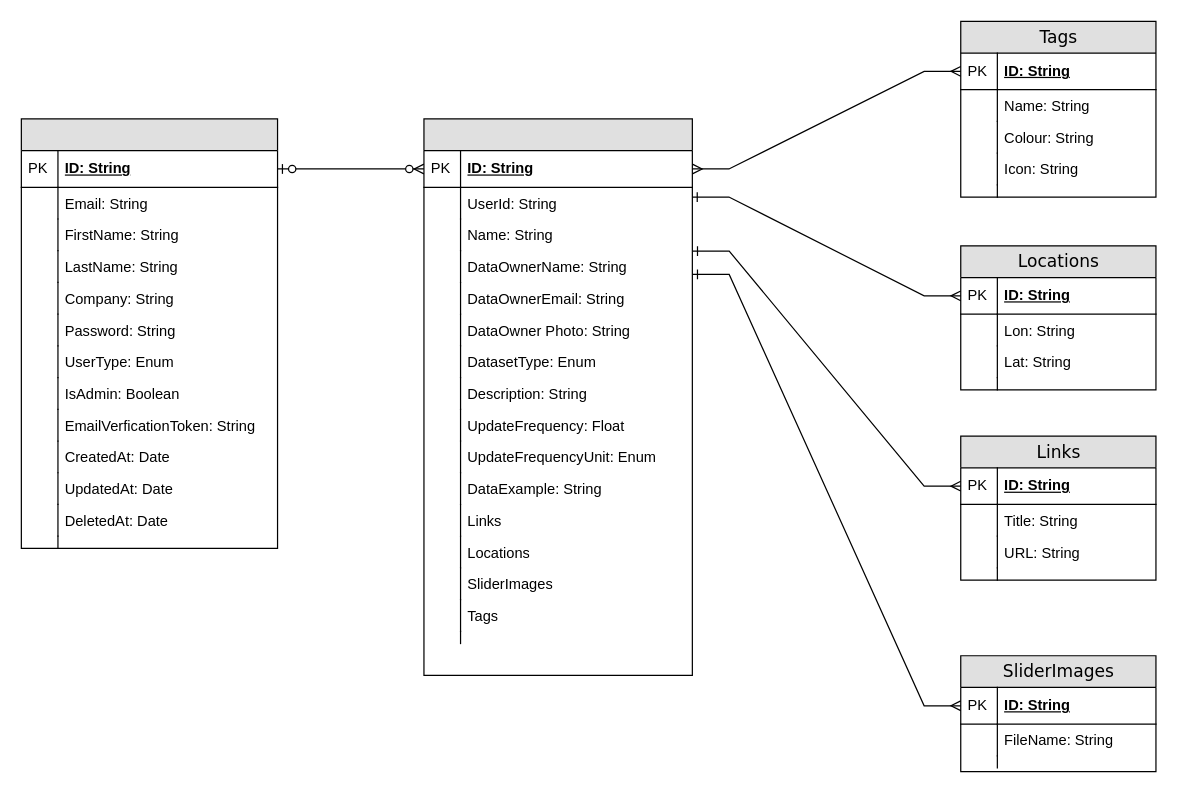
This 1177x793 diagram has some shape labels left out. Here are the shapes that lost their labels. From the top down, the box of each, then its label:
(20, 118, 278, 548): Users
(423, 118, 692, 675): Datasets
